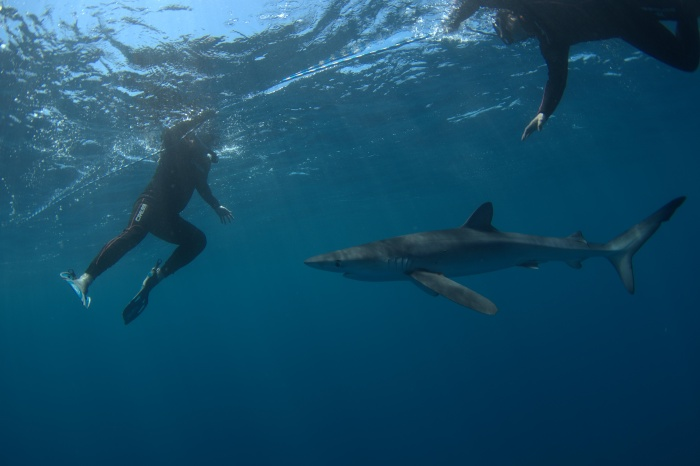Azul: (279, 170, 693, 326)
